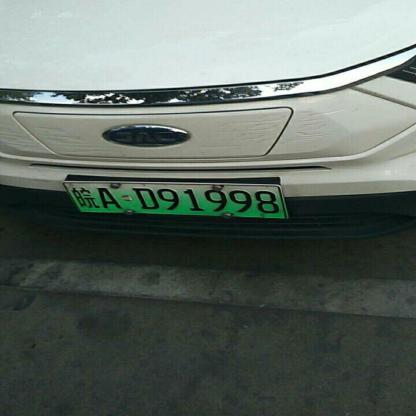lp: (63, 182, 286, 218)
